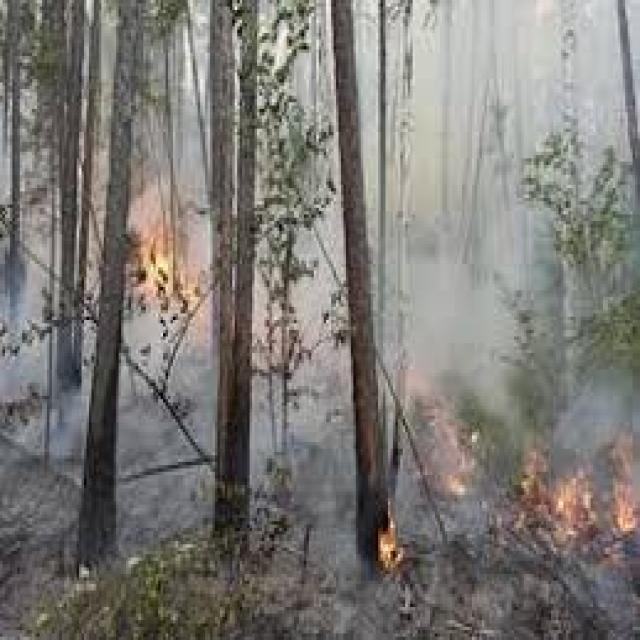Fire: (425, 371, 640, 571)
Smoke: (388, 269, 621, 474), (425, 0, 512, 421), (133, 227, 208, 522)
